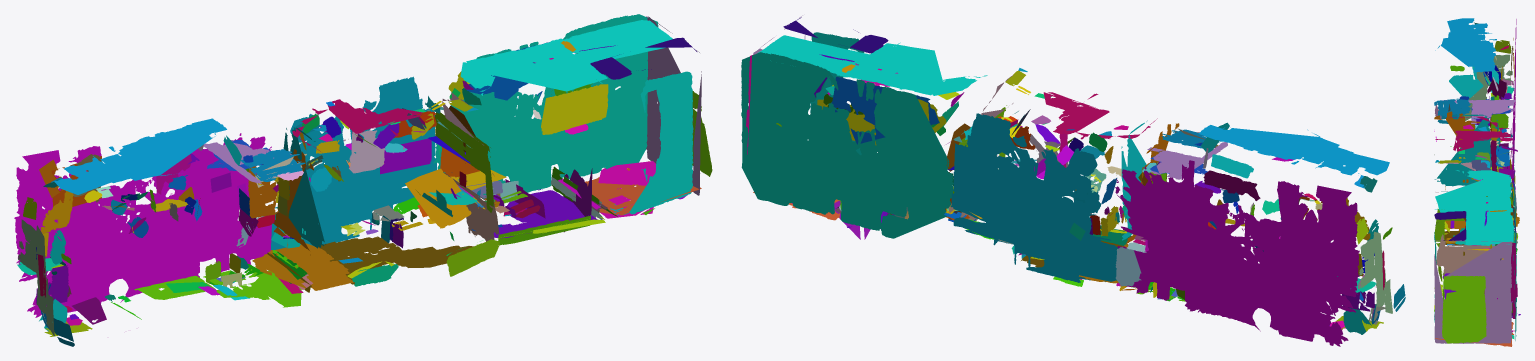
File: neuralplane_scene078.glb
3 renders of one model, left to right at view 1: azimuth 30°, elevation 25°; view 2: azimuth 150°, elevation 25°; view 3: azimuth 270°, elevation 25°, orthographic. The views are drawn at different scales.
Size of the model in its own units: 16.62 by 4.81 by 2.65.
